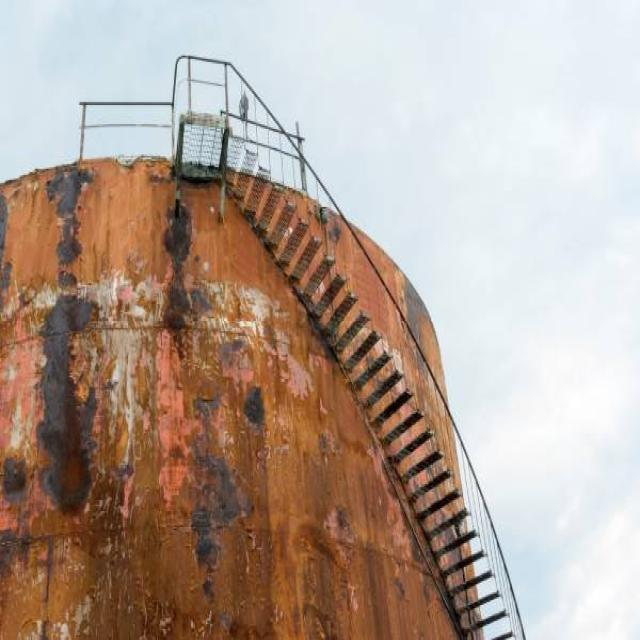corrosion: (0, 151, 482, 640)
